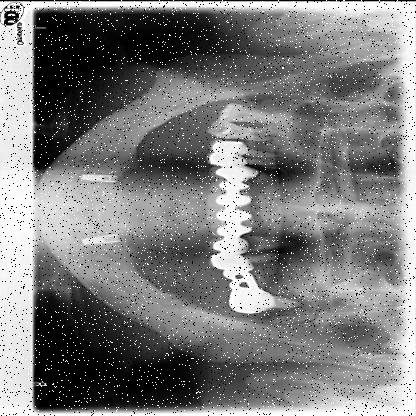Bicon: (79, 233, 123, 244)
